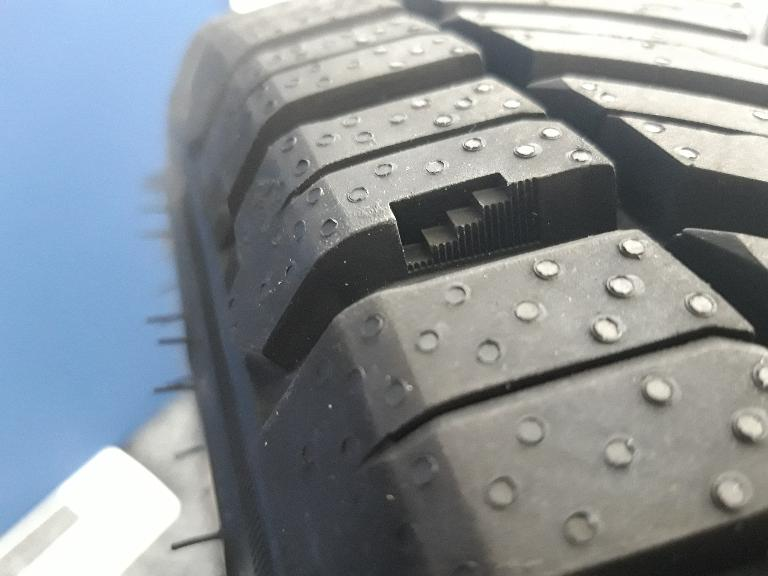temoin:100: (386, 169, 543, 273)
